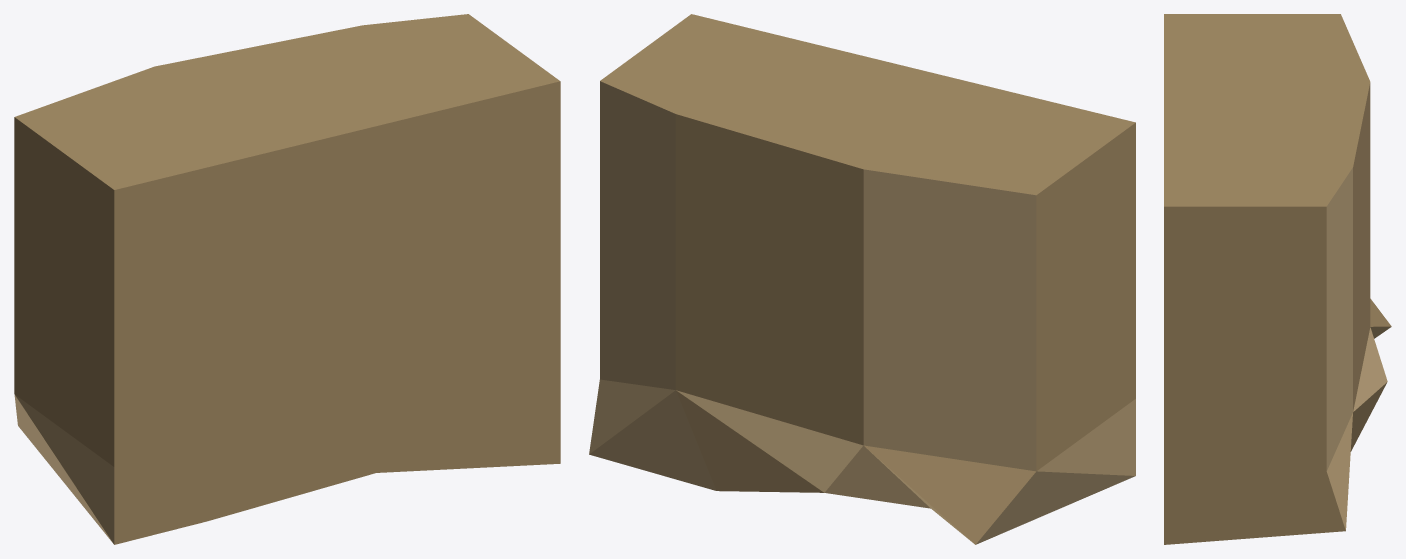
Rendered from guard_desert_2.fbx.
The picture shows the model from 3 angles, left to right: view 1: azimuth 30°, elevation 25°; view 2: azimuth 150°, elevation 25°; view 3: azimuth 270°, elevation 25°; orthographic projection. The views are drawn at different scales.
Parts seen in each view (by area): view 1: Cube.003; view 2: Cube.003; view 3: Cube.003.
Part boxes in pixels (box(x1,y1,x2,y2)): Cube.003: box(14, 14, 560, 544); Cube.003: box(589, 14, 1135, 544); Cube.003: box(1164, 14, 1391, 544).
Bounding box in the file's own units: 1036 × 849 × 518.
